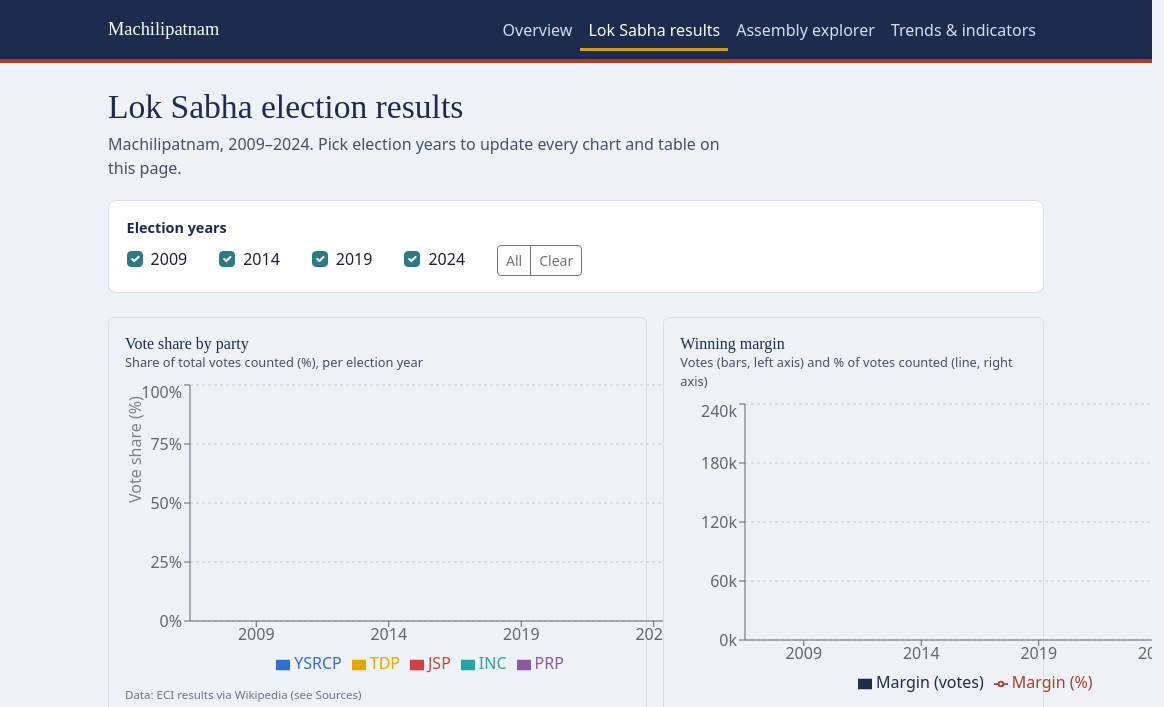
Test case: Dashboard › year filter updates the summary table on the Lok Sabha page
This screenshot has width=1164, height=707.
Click the checkbox labelled "2009": (135, 259) [127,251,143,267]
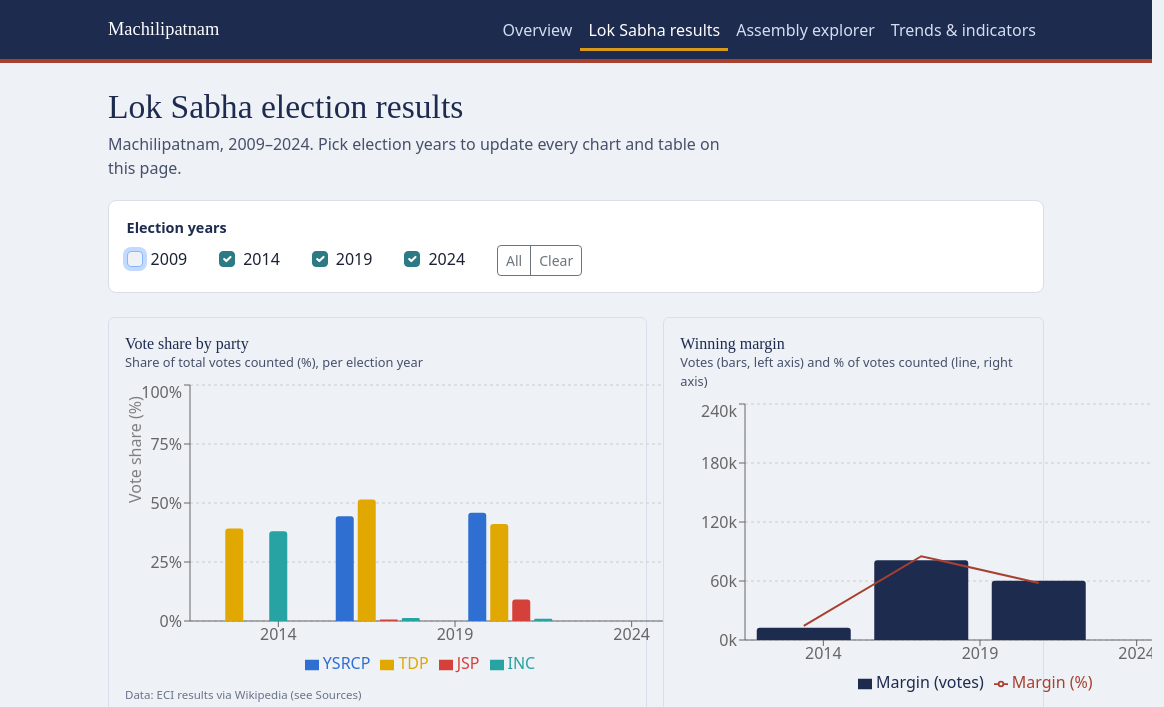
Click the checkbox labelled "2014": (227, 259) [219,251,235,267]
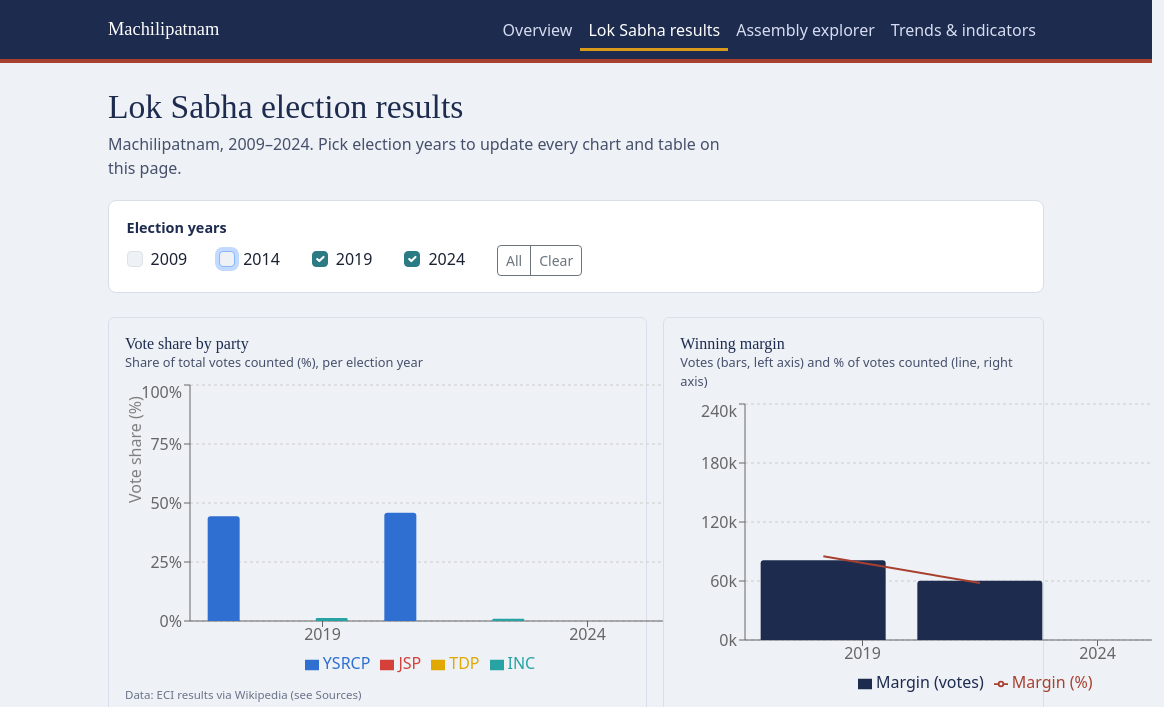
Click the button "Clear": (556, 260) [530,244,582,276]
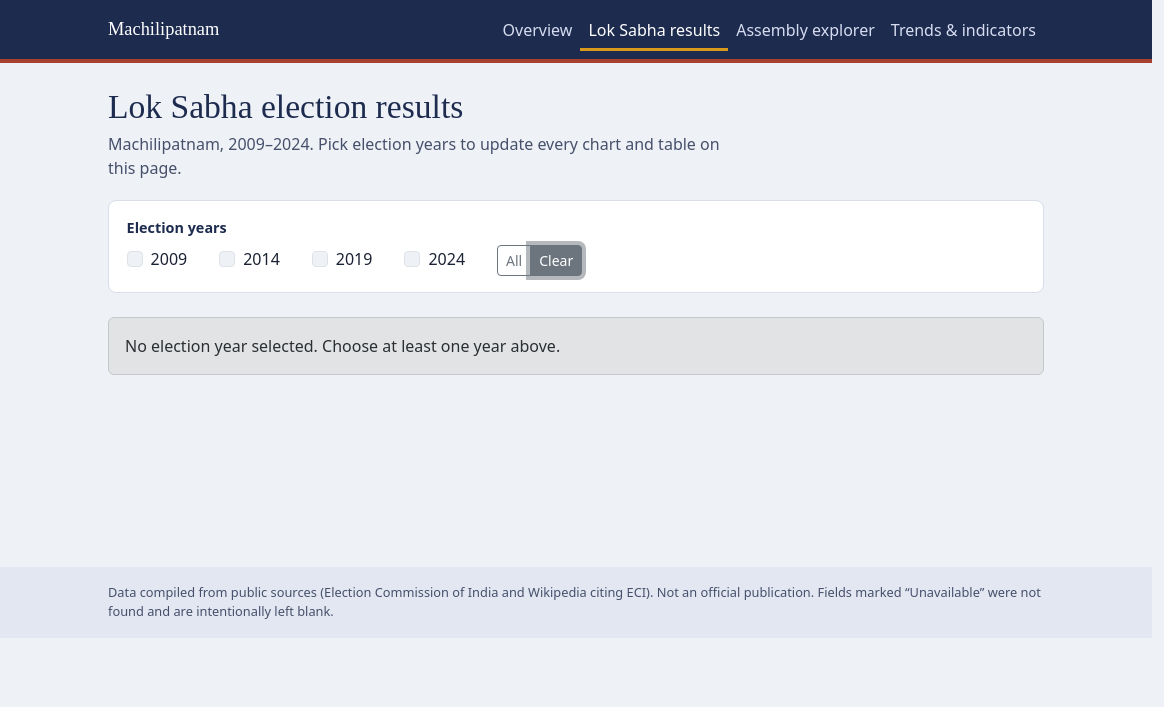
Expected: the text "No election year selected. Choose at least one year above." is shown, [108,316,1044,374]
